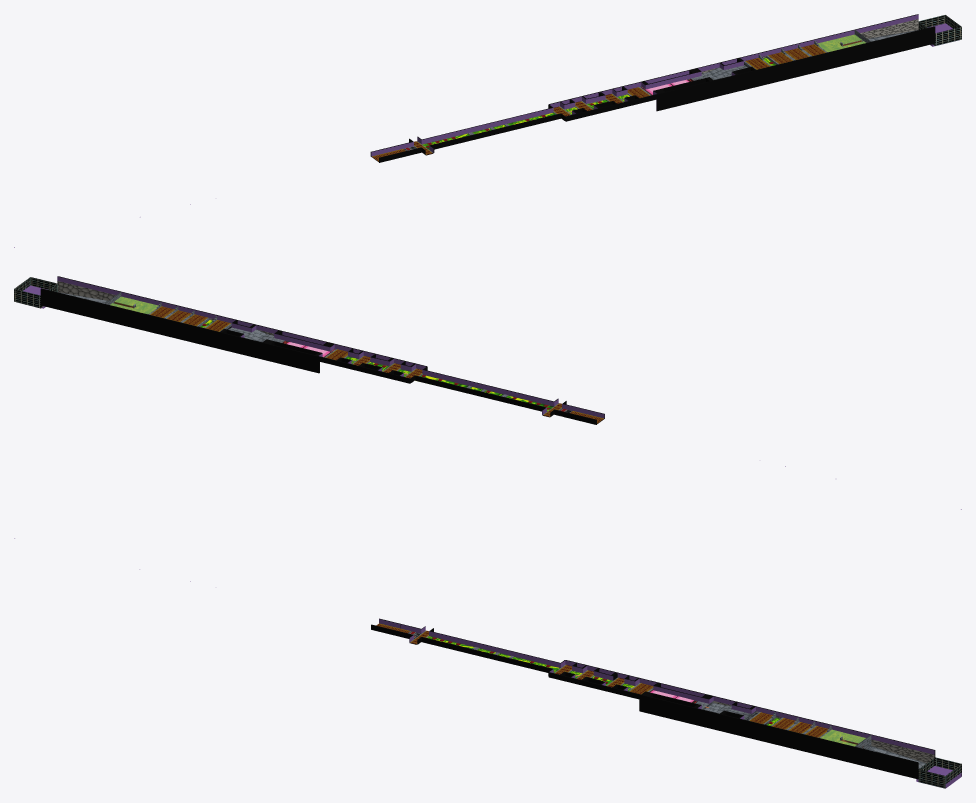
File: map.glb
3 views of the same model, one above another, from view 1: azimuth 30°, elevation 25°; view 2: azimuth 150°, elevation 25°; view 3: azimuth 330°, elevation 25° (orthographic).
Visible parts, largest first — view 1: sol16 -col.001, mur15 -col.002, sol16 -col.002; view 2: mur15 -col.002, sol16 -col.001, sol16 -col.002; view 3: sol16 -col.001, mur15 -col.002, sol16 -col.002.
Part boxes in pixels (x1,y1,x2,y2): sol16 -col.001: [656, 23, 959, 111]; mur15 -col.002: [640, 14, 918, 86]; sol16 -col.002: [919, 15, 961, 45]; mur15 -col.002: [40, 288, 319, 373]; sol16 -col.001: [23, 276, 336, 349]; sol16 -col.002: [14, 277, 57, 308]; sol16 -col.001: [639, 694, 961, 788]; mur15 -col.002: [656, 682, 935, 765]; sol16 -col.002: [918, 757, 961, 788].
Size of the model in its own units: 3991 by 82.53 by 127.
Materials: 94 (76 with a texture image).
